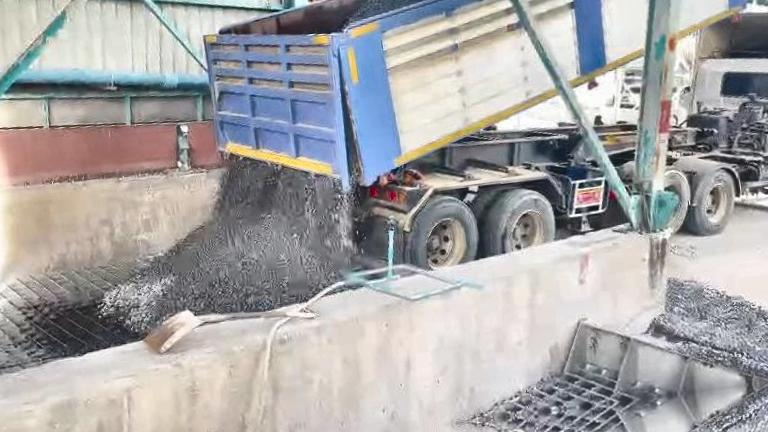gravel: (103, 160, 355, 332), (650, 281, 768, 380), (346, 0, 495, 25)
